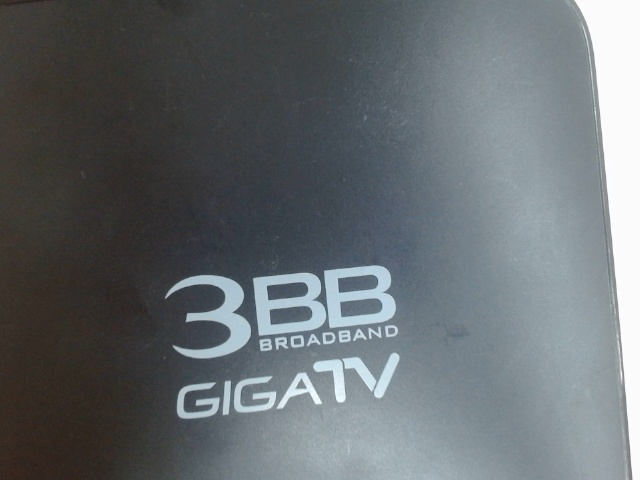AG_3BB: (133, 256, 432, 427)
